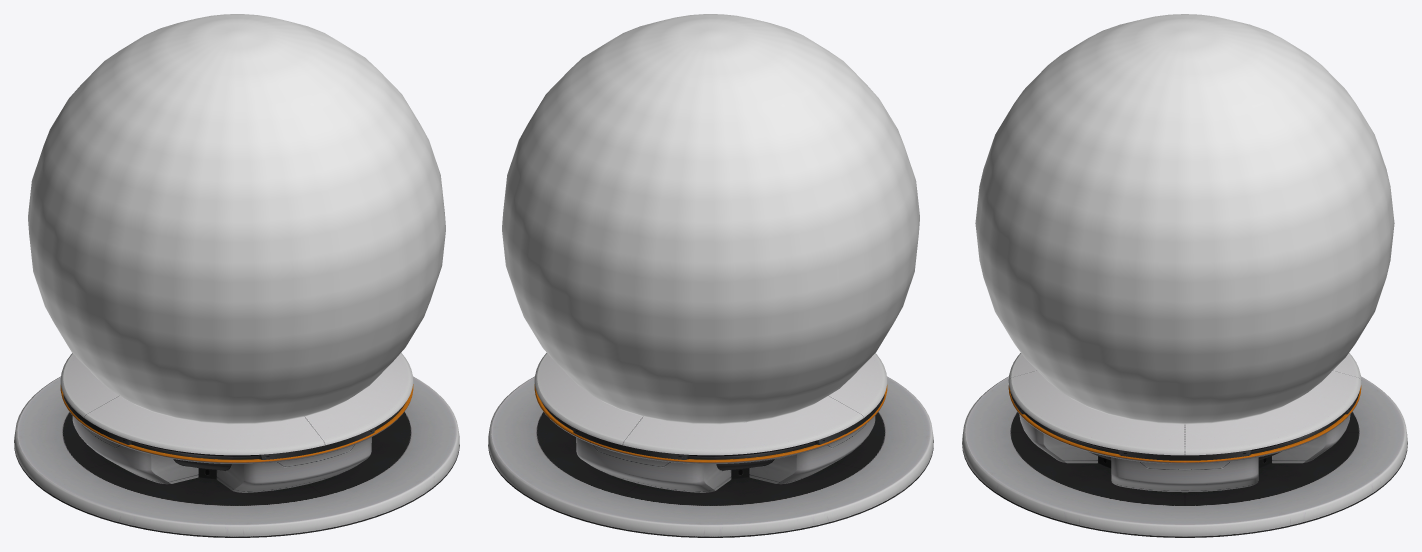
Rendered from SphericalAquariumModel3.fbx.
The picture shows the model from 3 angles, left to right: view 1: azimuth 30°, elevation 25°; view 2: azimuth 150°, elevation 25°; view 3: azimuth 270°, elevation 25°; orthographic projection.
Parts seen in each view (by area): view 1: AquariumSphere, Bio_Reactor_mesh_geo; view 2: AquariumSphere, Bio_Reactor_mesh_geo; view 3: AquariumSphere, Bio_Reactor_mesh_geo.
Part boxes in pixels (x1,y1,x2,y2): AquariumSphere: (28, 14, 445, 424); Bio_Reactor_mesh_geo: (14, 353, 459, 537); AquariumSphere: (502, 14, 919, 424); Bio_Reactor_mesh_geo: (488, 353, 933, 537); AquariumSphere: (975, 14, 1394, 424); Bio_Reactor_mesh_geo: (962, 353, 1407, 537).
Size of the model in its own units: 319 by 324 by 319.
